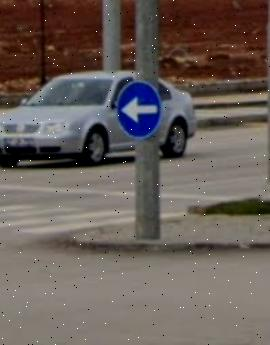turnleft: (113, 82, 161, 138)
